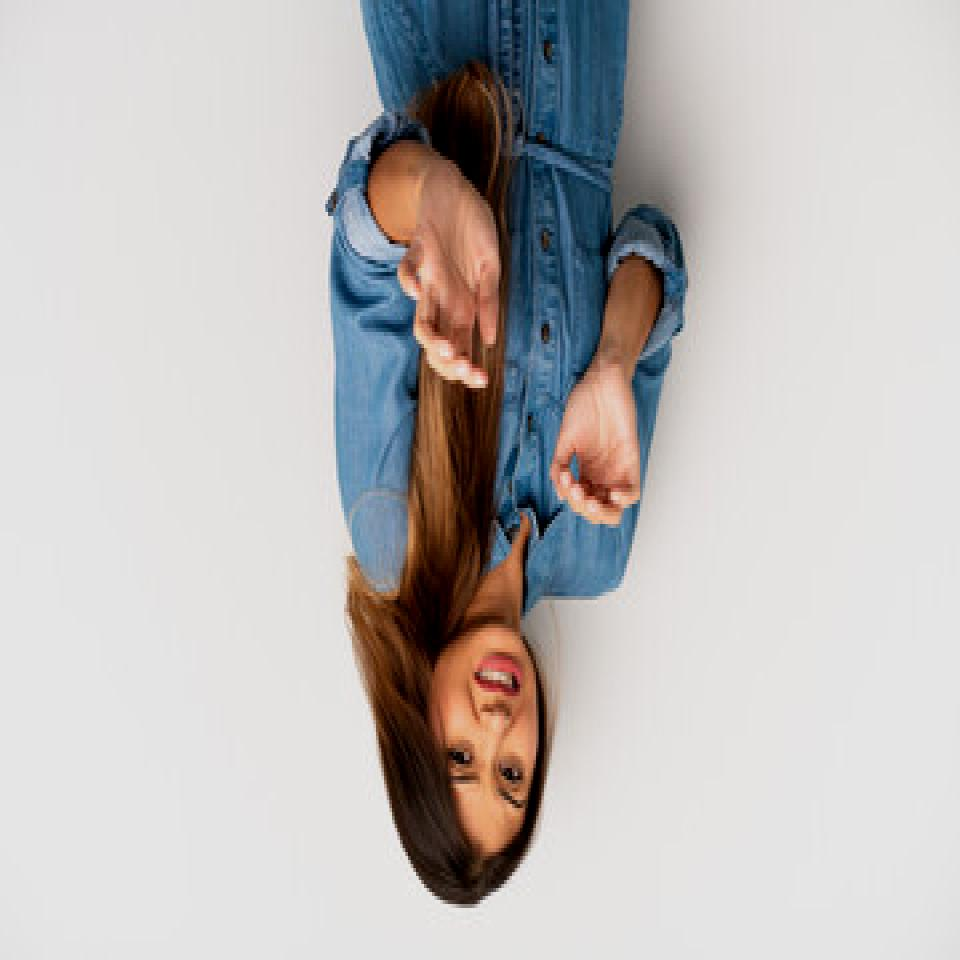Disgust: (424, 620, 536, 847)
